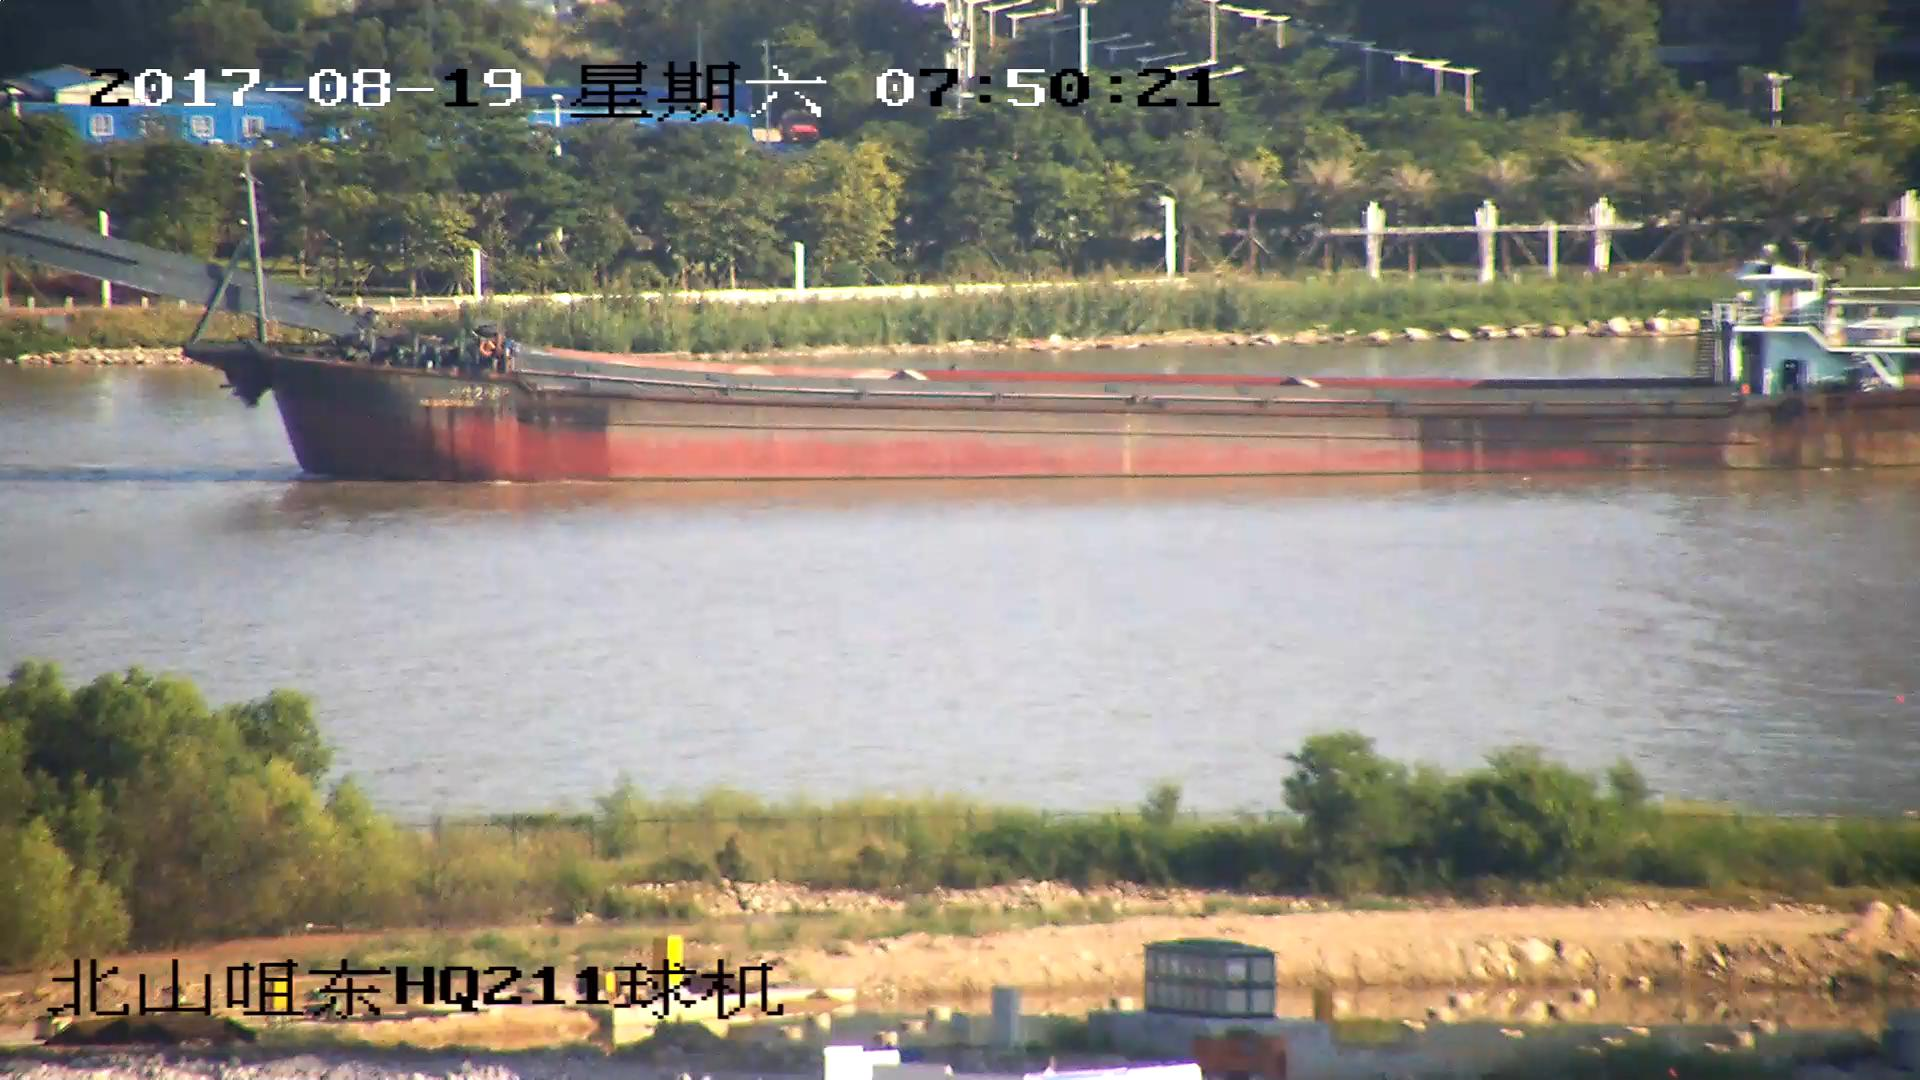bulk cargo carrier: (1, 166, 1920, 484)
